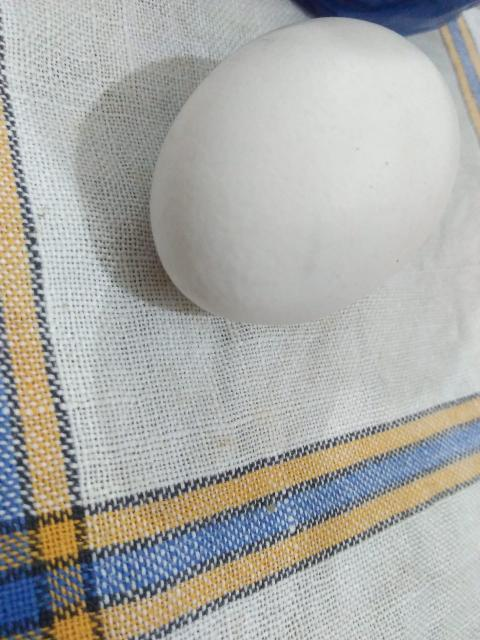Sano: (151, 15, 462, 322)
